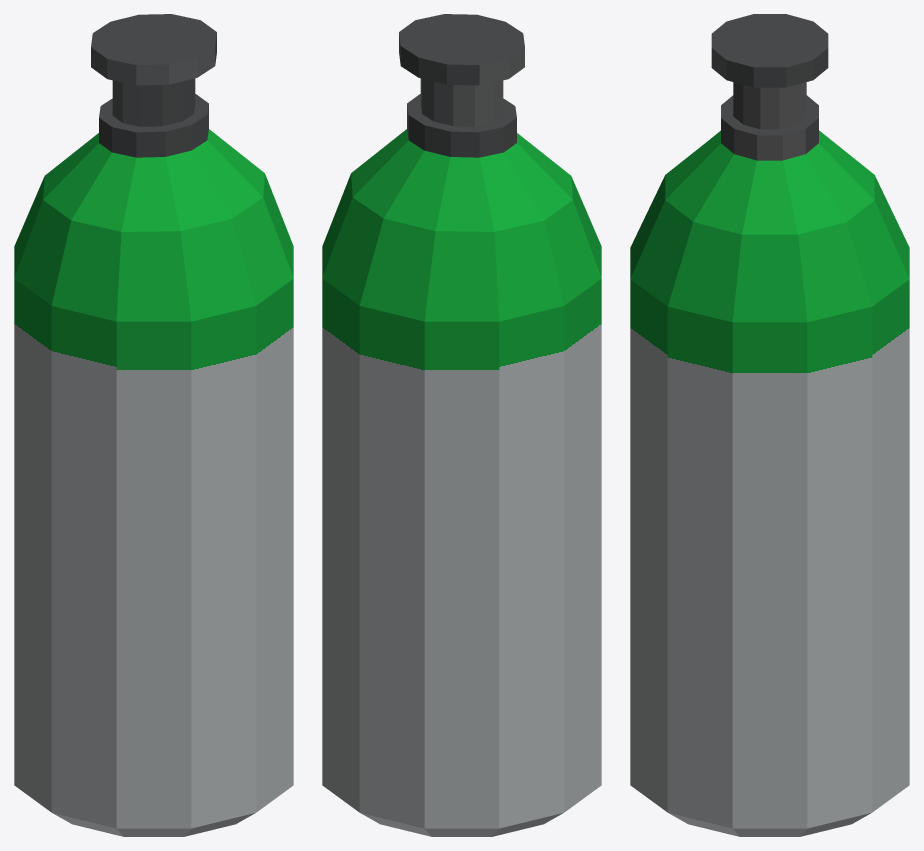
File: oxygen_tank.fbx
The picture shows the model from 3 angles, left to right: view 1: azimuth 30°, elevation 25°; view 2: azimuth 150°, elevation 25°; view 3: azimuth 270°, elevation 25°; orthographic projection.
Visible parts, largest first — view 1: oxygen; view 2: oxygen; view 3: oxygen.
Boxes of the visible parts, bbox=[...] form: oxygen: bbox=[14, 14, 293, 836]; oxygen: bbox=[322, 14, 601, 836]; oxygen: bbox=[630, 14, 909, 836].
Bounding box in the file's own units: 0.9766 × 2.89 × 0.9766.
Materials: 1 (1 with a texture image).
